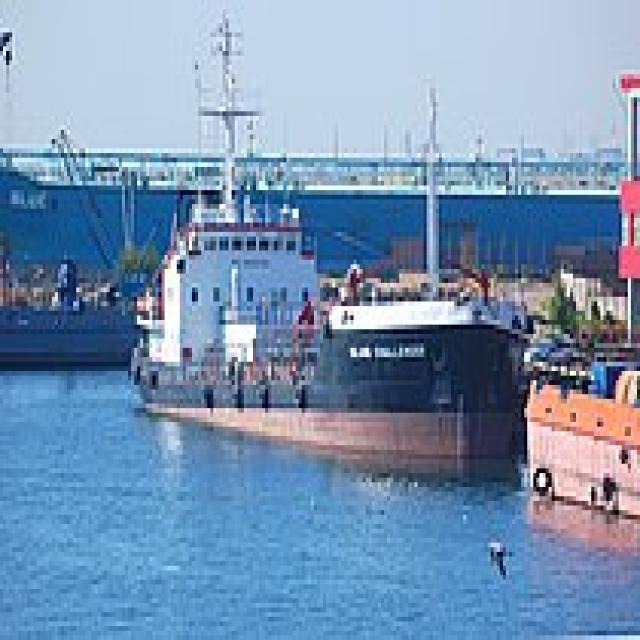Tanker: (125, 4, 524, 454)
